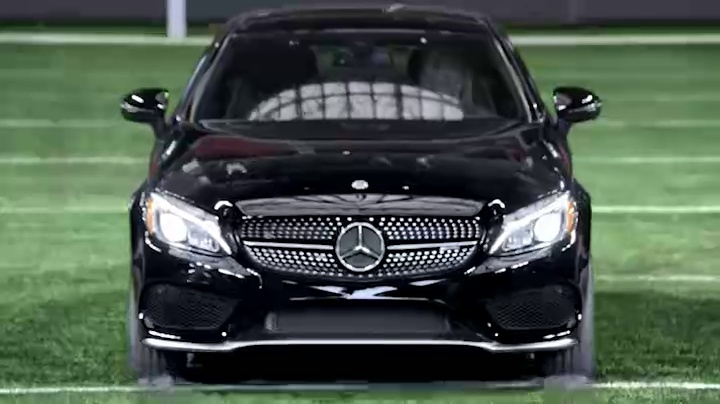amg: (118, 1, 606, 382)
